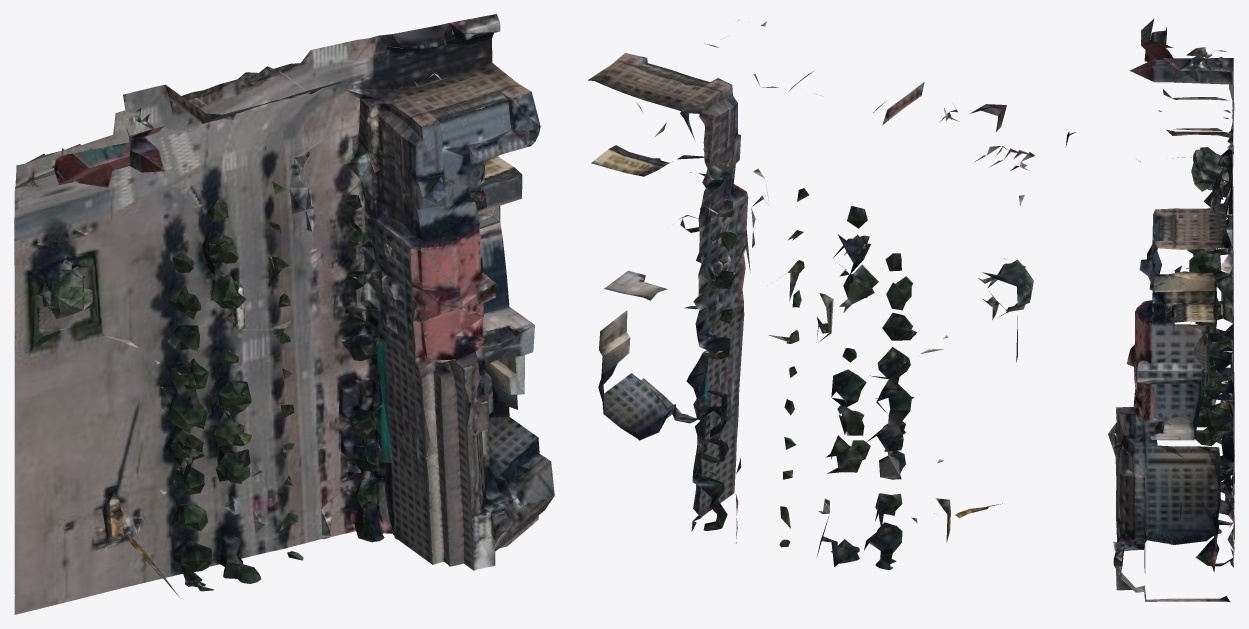
Rendered from Tile_+034_+021_L17_0003.glb.
3 renders of one model, left to right at view 1: azimuth 30°, elevation 25°; view 2: azimuth 150°, elevation 25°; view 3: azimuth 270°, elevation 25°, orthographic. The views are drawn at different scales.
Size of the model in its own units: 126 by 126 by 35.36.
Materials: 1 (1 with a texture image).
